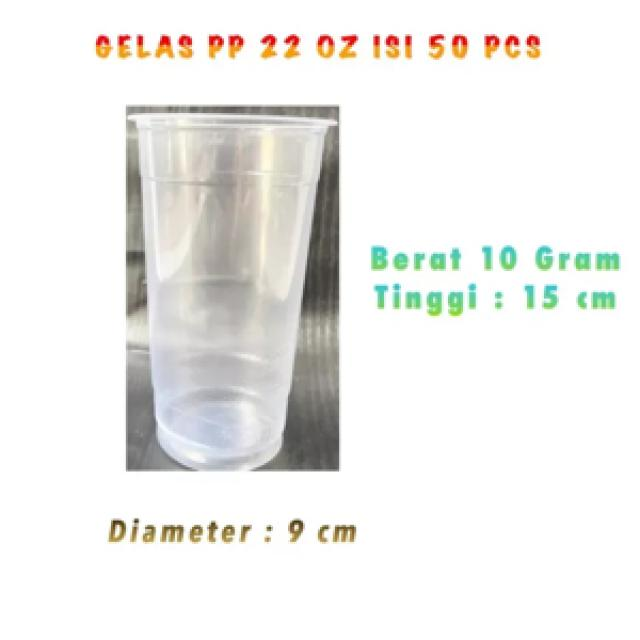plastic cup: (126, 106, 339, 472)
